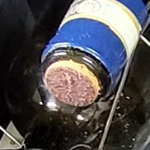bottle: (24, 28, 123, 127)
